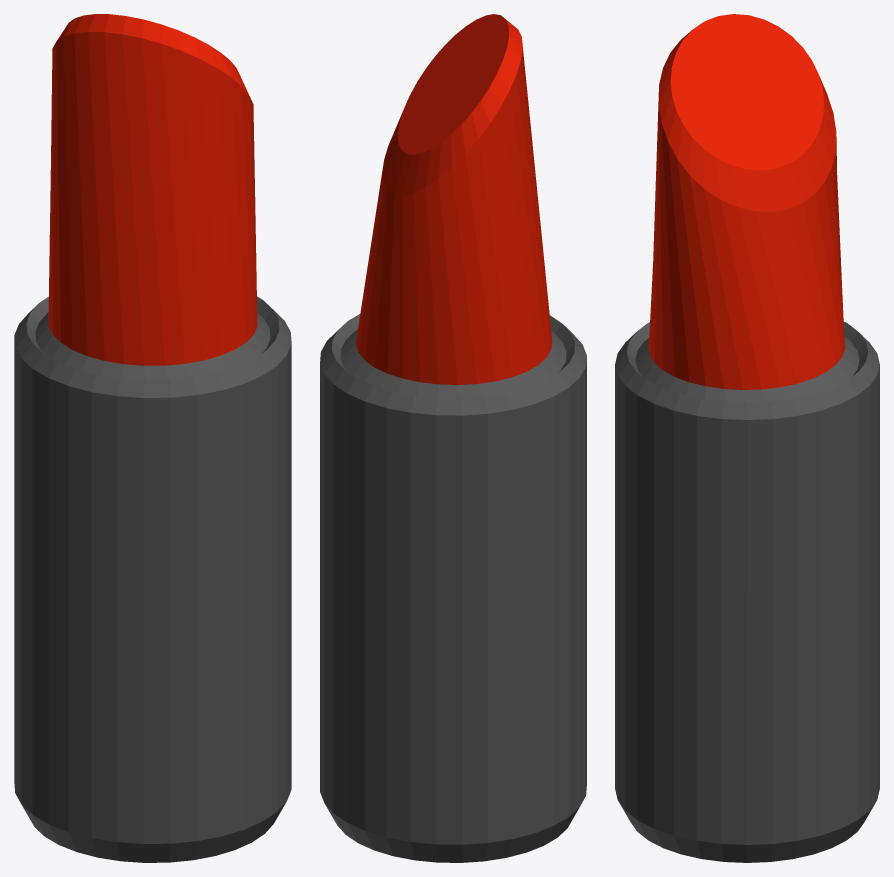
The model's file is lipstick.fbx.
3 renders of one model, left to right at view 1: azimuth 30°, elevation 25°; view 2: azimuth 150°, elevation 25°; view 3: azimuth 270°, elevation 25°, orthographic. The views are drawn at different scales.
Parts seen in each view (by area): view 1: Cylinder; view 2: Cylinder; view 3: Cylinder.
Boxes of the visible parts, x1,y1,x2,y2 form: Cylinder: (14, 14, 291, 862); Cylinder: (320, 14, 586, 862); Cylinder: (615, 14, 879, 862).
Size of the model in its own units: 53.1 by 172 by 53.1.
